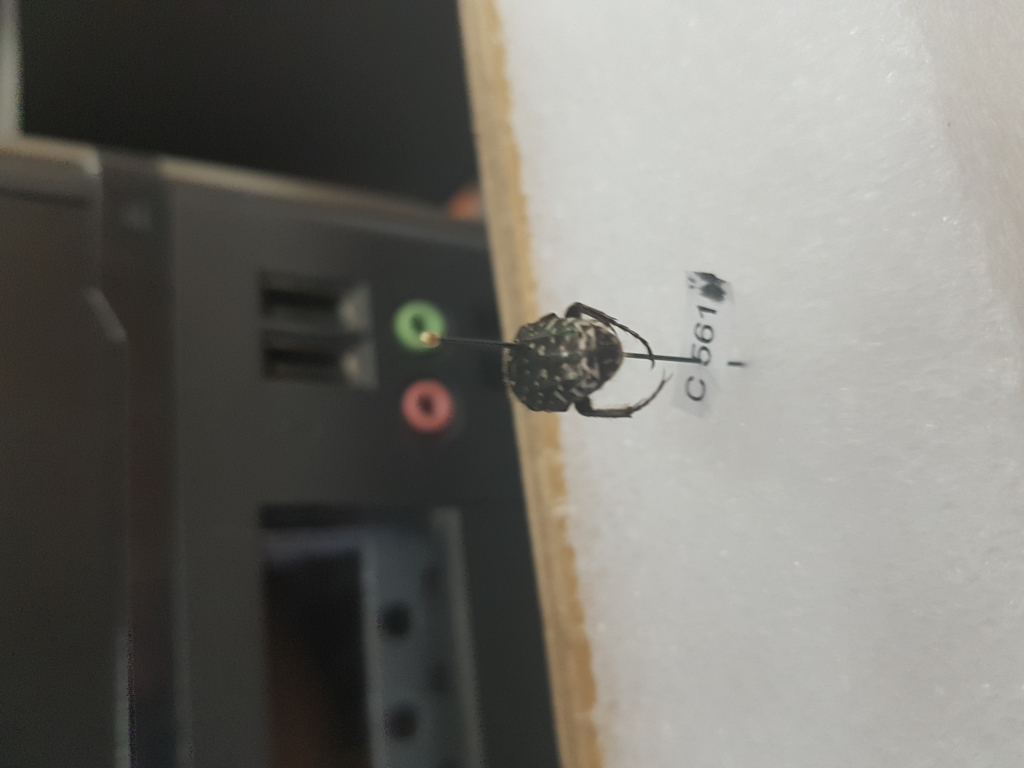Oxythyrea_funesta: (498, 295, 675, 428)
